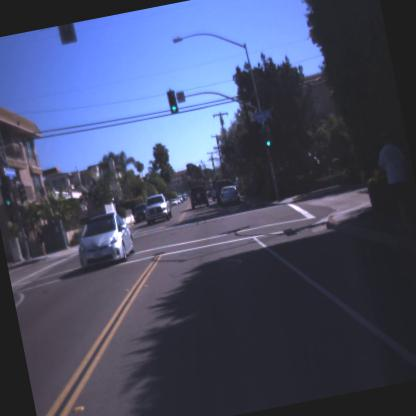trafficlight: (260, 126, 274, 152), (166, 90, 179, 112)
